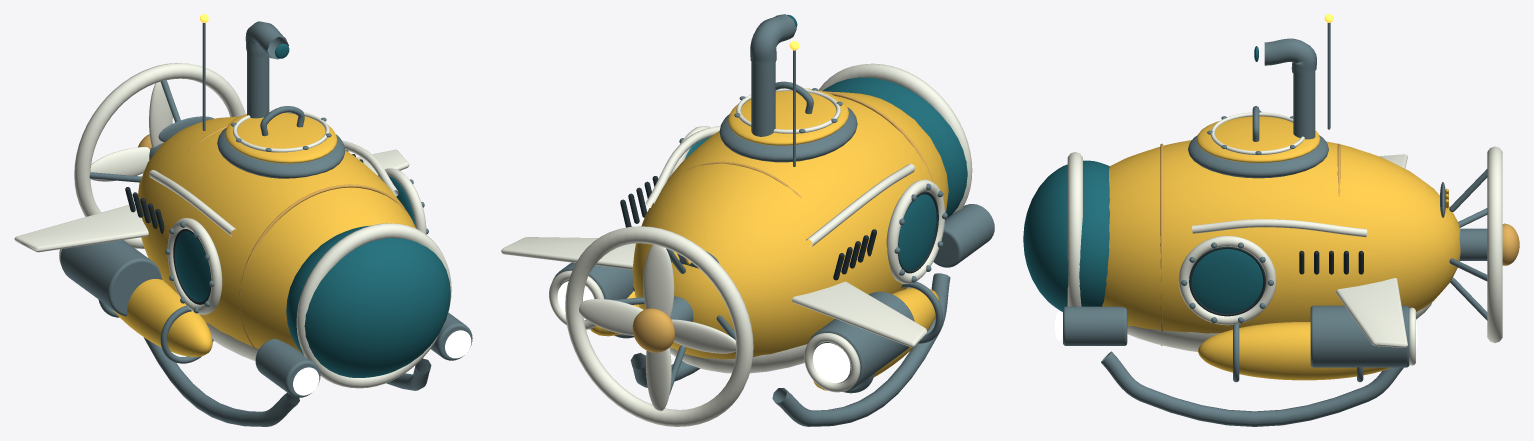
The model's file is submarine-v2.glb.
3 views of the same model, side by side, from view 1: azimuth 30°, elevation 25°; view 2: azimuth 150°, elevation 25°; view 3: azimuth 270°, elevation 25° (orthographic). The views are drawn at different scales.
Parts seen in each view (by area): view 1: Pressure hull, Front glass dome, Propeller cage, Thruster housing, Front pressure ring, Ballast tank, Hatch cover, Hydroplane, Landing skid, Hatch base, Headlight barrel, Observation window (+20 smaller); view 2: Pressure hull, Propeller cage, Front glass dome, Landing skid, Hydroplane, Hatch cover, Thruster housing, Front pressure ring, Hatch base, Headlight barrel, Hydroplane.001, Observation window (+20 smaller); view 3: Pressure hull, Front glass dome, Ballast tank.001, Landing skid.001, Thruster housing.001, Hatch cover, Observation window.001, Hydroplane.001, Propeller cage, Headlight barrel.001, Window pressure ring.001, Hatch base (+10 smaller).
Part boxes in pixels (x1,y1,x2,y2): Pressure hull: [138, 116, 416, 353]; Front glass dome: [286, 225, 450, 377]; Propeller cage: [74, 63, 245, 248]; Thruster housing: [60, 240, 162, 316]; Front pressure ring: [296, 223, 451, 388]; Ballast tank: [113, 279, 212, 356]; Hatch cover: [225, 113, 337, 163]; Hydroplane: [14, 203, 148, 252]; Landing skid: [143, 337, 299, 426]; Hatch base: [217, 128, 345, 178]; Headlight barrel: [255, 338, 320, 397]; Observation window: [175, 231, 210, 301]; Pressure hull: [632, 92, 948, 359]; Propeller cage: [565, 226, 753, 426]; Front glass dome: [823, 77, 967, 219]; Landing skid: [772, 273, 950, 426]; Hydroplane: [792, 281, 926, 347]; Hatch cover: [728, 88, 848, 145]; Thruster housing: [807, 291, 914, 391]; Front pressure ring: [818, 63, 972, 213]; Hatch base: [719, 107, 857, 162]; Headlight barrel: [933, 204, 994, 267]; Hydroplane.001: [501, 237, 635, 269]; Observation window: [898, 194, 936, 270]; Pressure hull: [1102, 140, 1460, 333]; Front glass dome: [1023, 160, 1109, 311]; Ballast tank.001: [1198, 322, 1390, 380]; Landing skid.001: [1101, 351, 1403, 426]; Thruster housing.001: [1310, 305, 1409, 367]; Hatch cover: [1196, 116, 1320, 162]; Observation window.001: [1191, 249, 1263, 313]; Hydroplane.001: [1336, 278, 1407, 347]; Propeller cage: [1487, 146, 1502, 342]; Headlight barrel.001: [1063, 306, 1127, 345]; Window pressure ring.001: [1178, 235, 1276, 325]; Hatch base: [1188, 135, 1328, 178].
Size of the model in its own units: 3.53 by 3.14 by 4.01.
